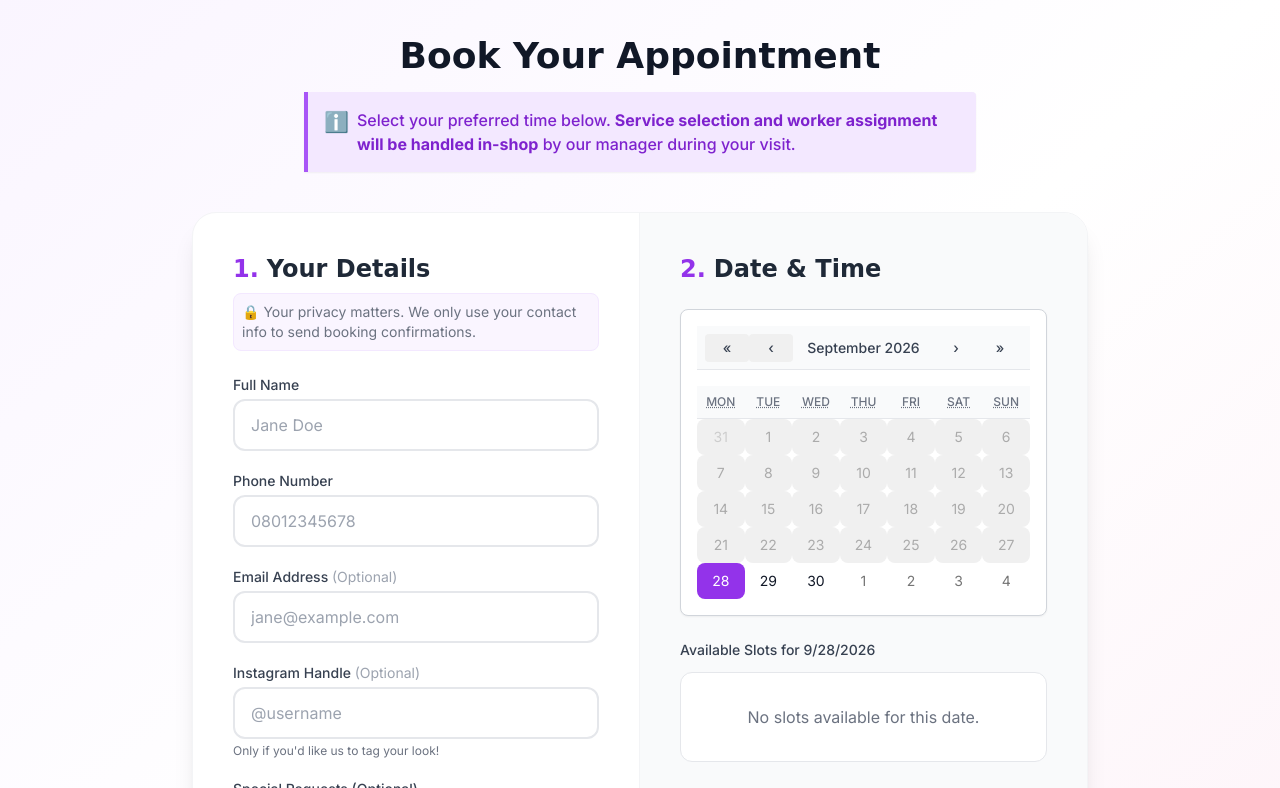
PublicBooking Component › validates email format if provided
Type "invalid-email" into the field with placeholder "jane@example.com" at (416, 617), box [233,591,599,643]
(page scrolled)
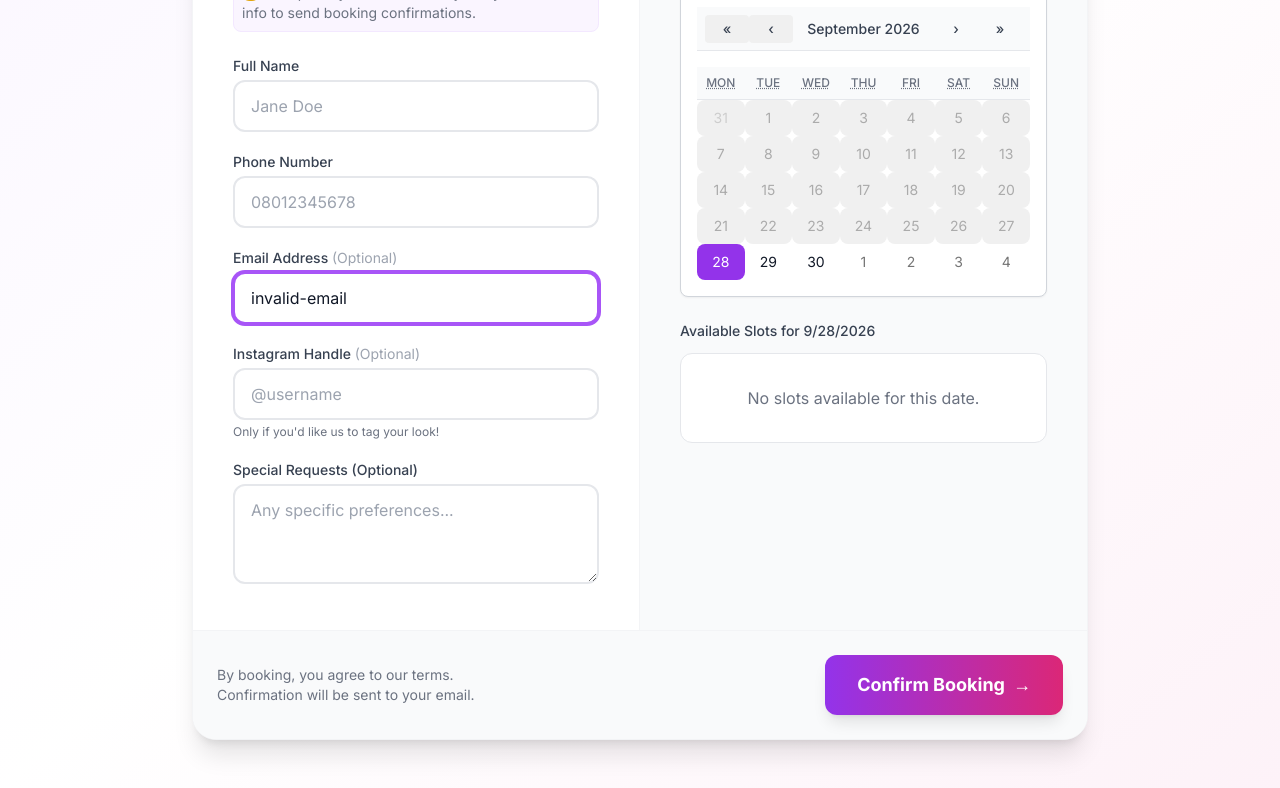
Click the text "Confirm Booking" at (931, 685), box [857,671,1005,699]
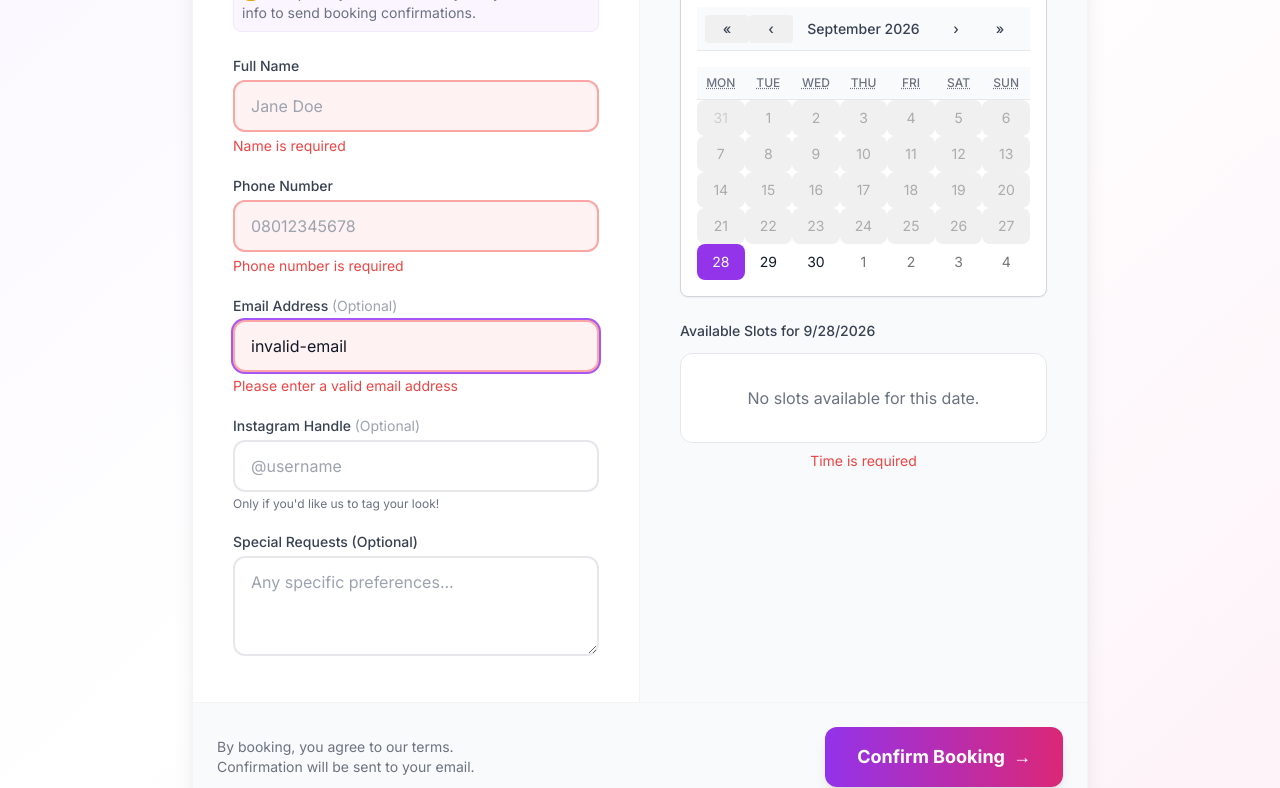
Check: the text "Please enter a valid email address" is shown, box [233,377,458,394]
